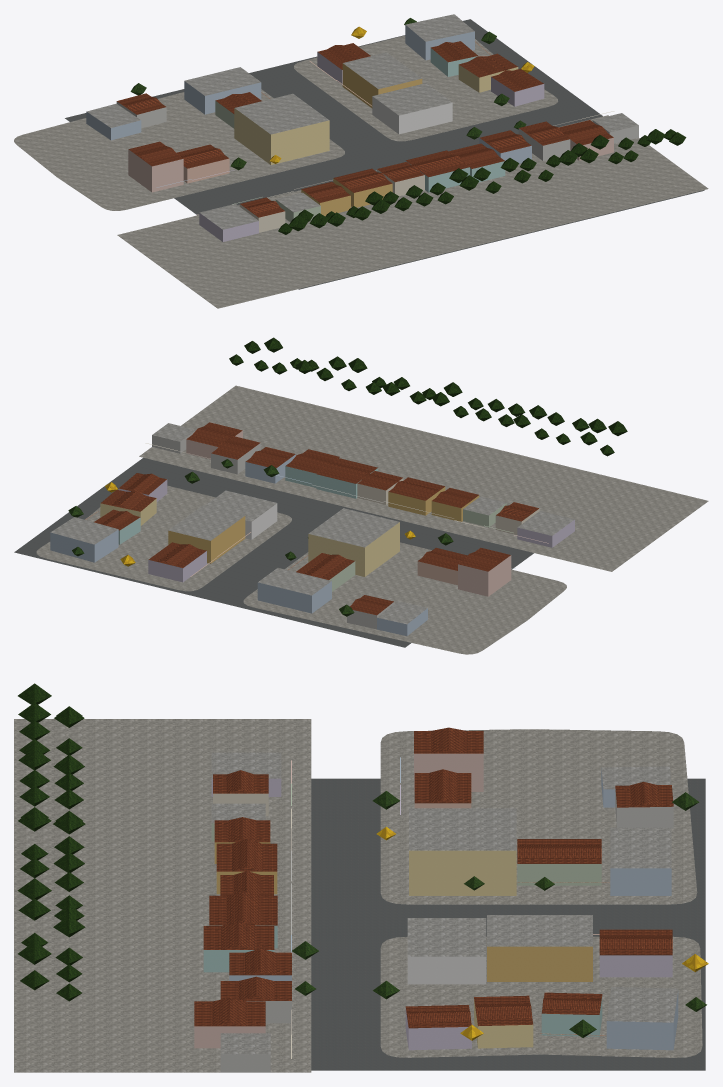
Rendered from cidade_S02_00_lod.gltf.
3 renders of one model, top to bottom at view 1: azimuth 30°, elevation 25°; view 2: azimuth 150°, elevation 25°; view 3: azimuth 270°, elevation 25°, orthographic. The views are drawn at different scales.
Visible parts, largest first — view 1: S02_00_Chao_LOD2, S02_00_Edificios_LOD1, S02_00_Silhueta_LOD2, S02_00_Vegetacao_LOD2; view 2: S02_00_Chao_LOD2, S02_00_Edificios_LOD1, S02_00_Silhueta_LOD2, S02_00_Vegetacao_LOD2; view 3: S02_00_Chao_LOD2, S02_00_Edificios_LOD1, S02_00_Silhueta_LOD2, S02_00_Vegetacao_LOD2.
Part boxes in pixels (bbox=[...]): S02_00_Chao_LOD2: bbox=[14, 19, 708, 308]; S02_00_Edificios_LOD1: bbox=[86, 14, 638, 241]; S02_00_Silhueta_LOD2: bbox=[116, 41, 613, 232]; S02_00_Vegetacao_LOD2: bbox=[130, 18, 686, 234]; S02_00_Chao_LOD2: bbox=[14, 385, 708, 654]; S02_00_Edificios_LOD1: bbox=[50, 423, 574, 635]; S02_00_Silhueta_LOD2: bbox=[94, 422, 539, 628]; S02_00_Vegetacao_LOD2: bbox=[68, 337, 627, 616]; S02_00_Chao_LOD2: bbox=[14, 719, 705, 1072]; S02_00_Edificios_LOD1: bbox=[194, 727, 678, 1072]; S02_00_Silhueta_LOD2: bbox=[194, 731, 673, 1050]; S02_00_Vegetacao_LOD2: bbox=[17, 683, 708, 1040].
Bounding box in the file's own units: 121 × 15.91 × 100.
Materials: 20 (20 with a texture image).
